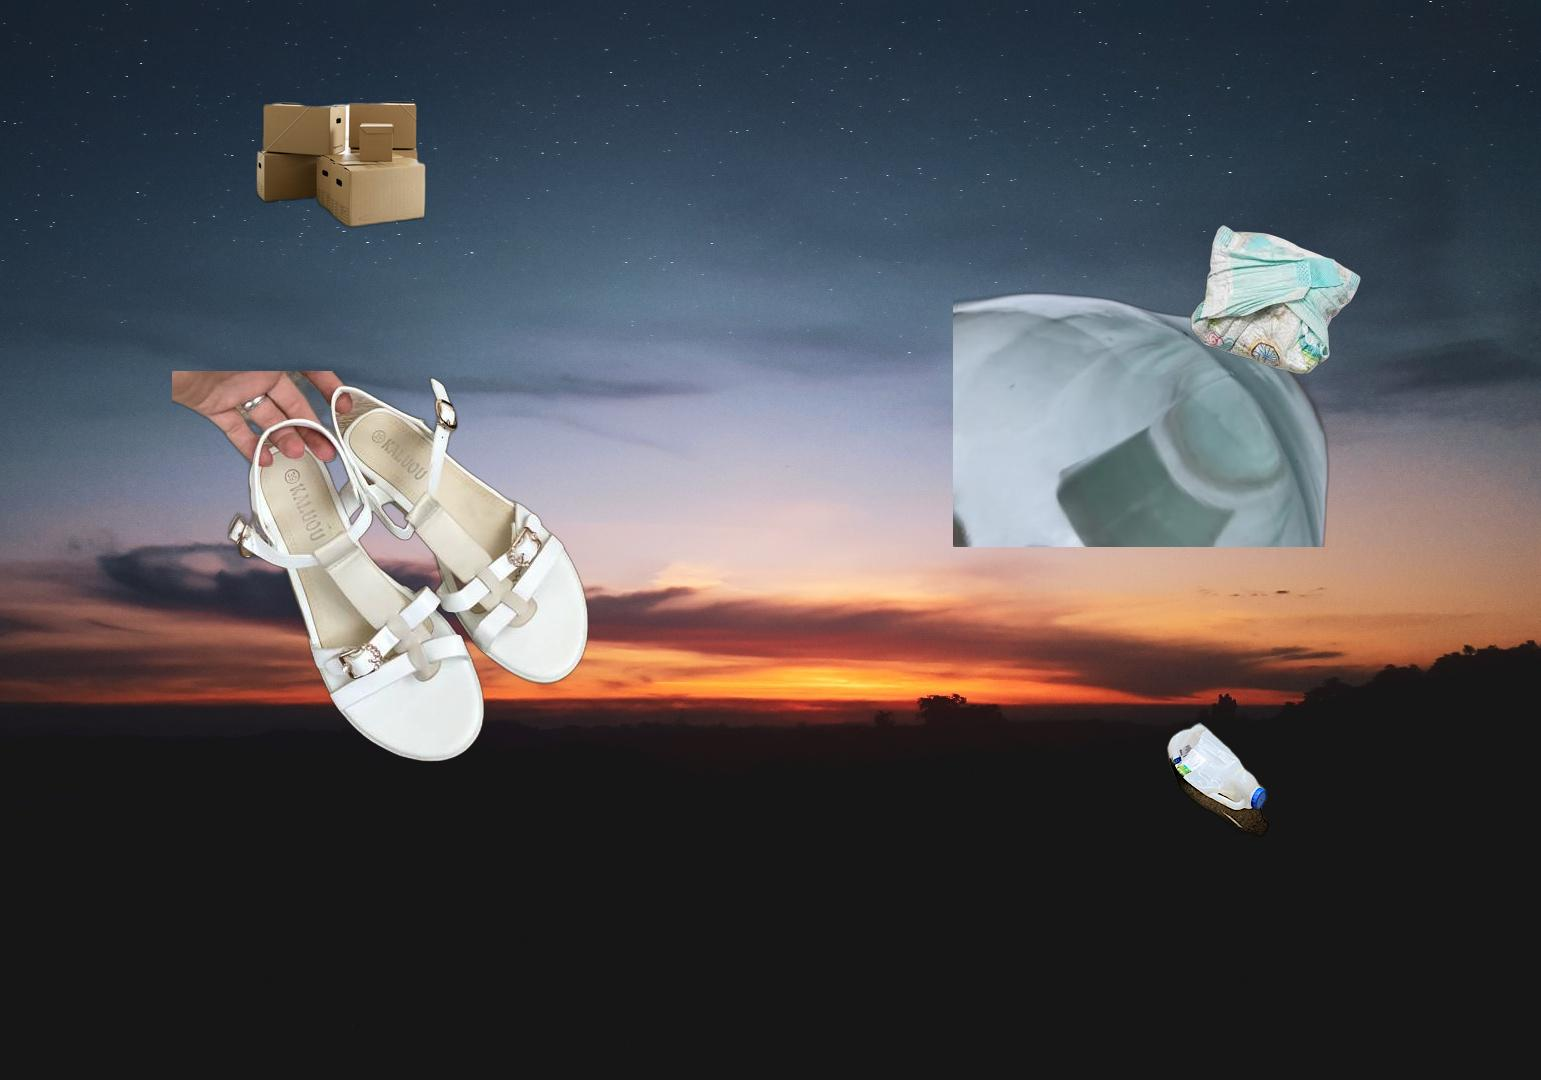clothes: (172, 371, 593, 765)
glass: (953, 290, 1333, 547)
metal-cans: (937, 1005, 1390, 1080)
plastic-bottles: (1162, 716, 1273, 842)
trash: (1189, 223, 1364, 377)
trashbox-cardboard: (252, 94, 430, 233)
